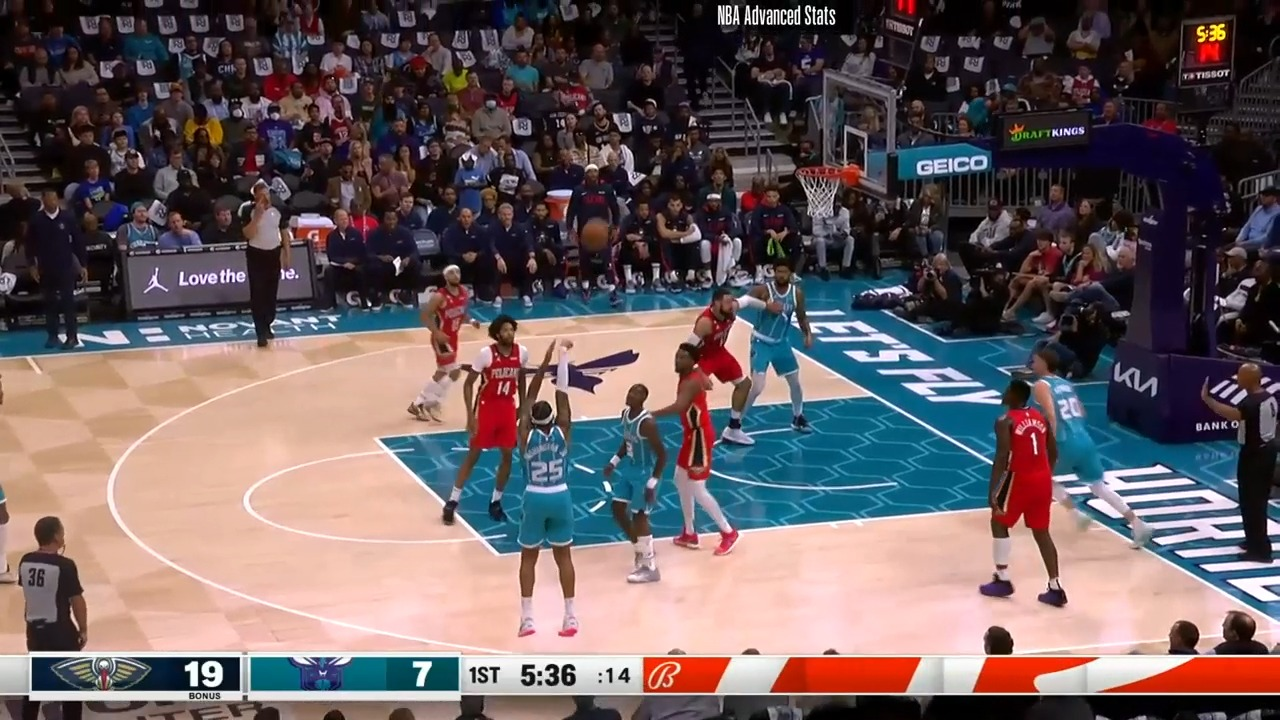net: (795, 157, 864, 222)
player: (513, 333, 585, 649), (645, 339, 742, 559), (983, 370, 1071, 611), (441, 313, 531, 530), (721, 259, 813, 452), (590, 377, 660, 585), (679, 287, 758, 450), (411, 264, 481, 423)
referee: (1203, 352, 1280, 567), (17, 514, 95, 654), (242, 184, 300, 356)
